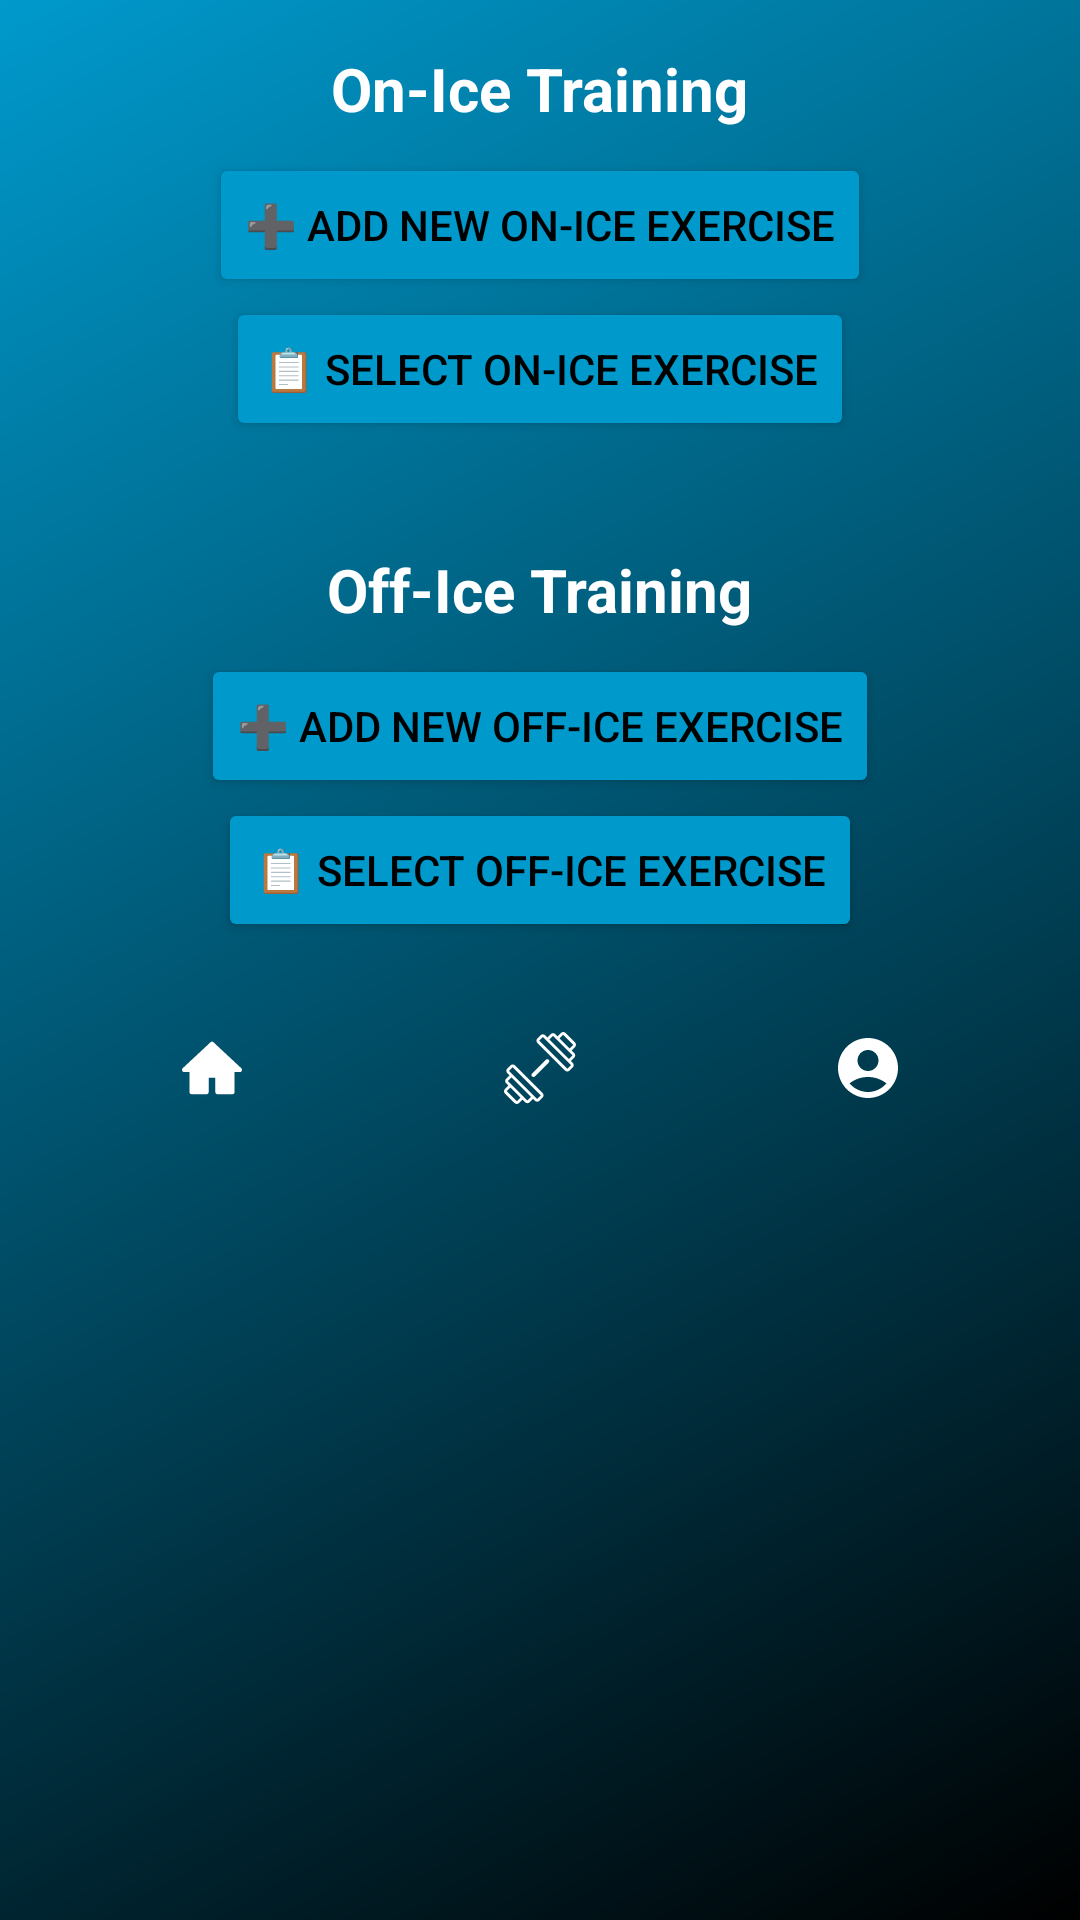

Where to tap for icons on this 1080 × 1920 app screen, as [x,y]:
dumbbell: [540,1068]
house: [212,1068]
profilevector: [868,1068]
